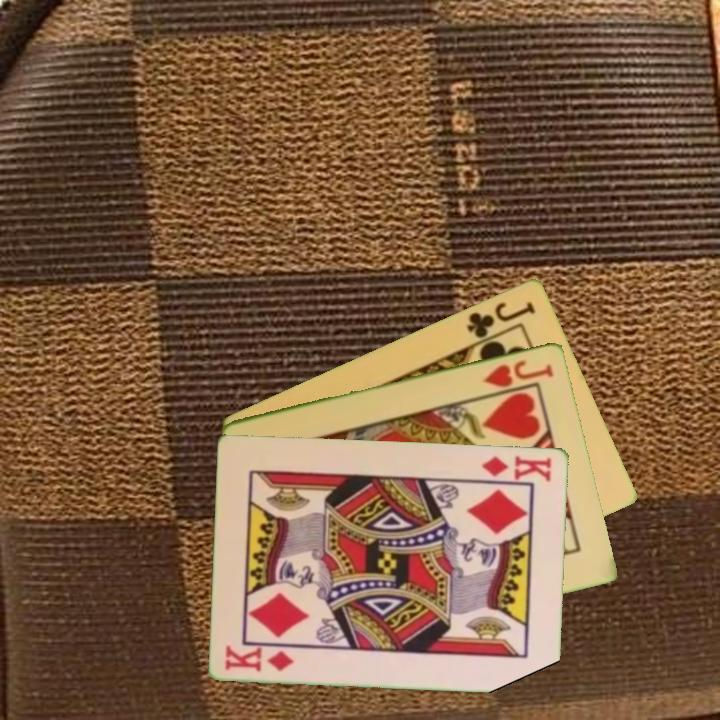Jc: (463, 297, 539, 341)
Jh: (480, 356, 557, 390)
Kd: (474, 451, 555, 484), (222, 643, 297, 674)
